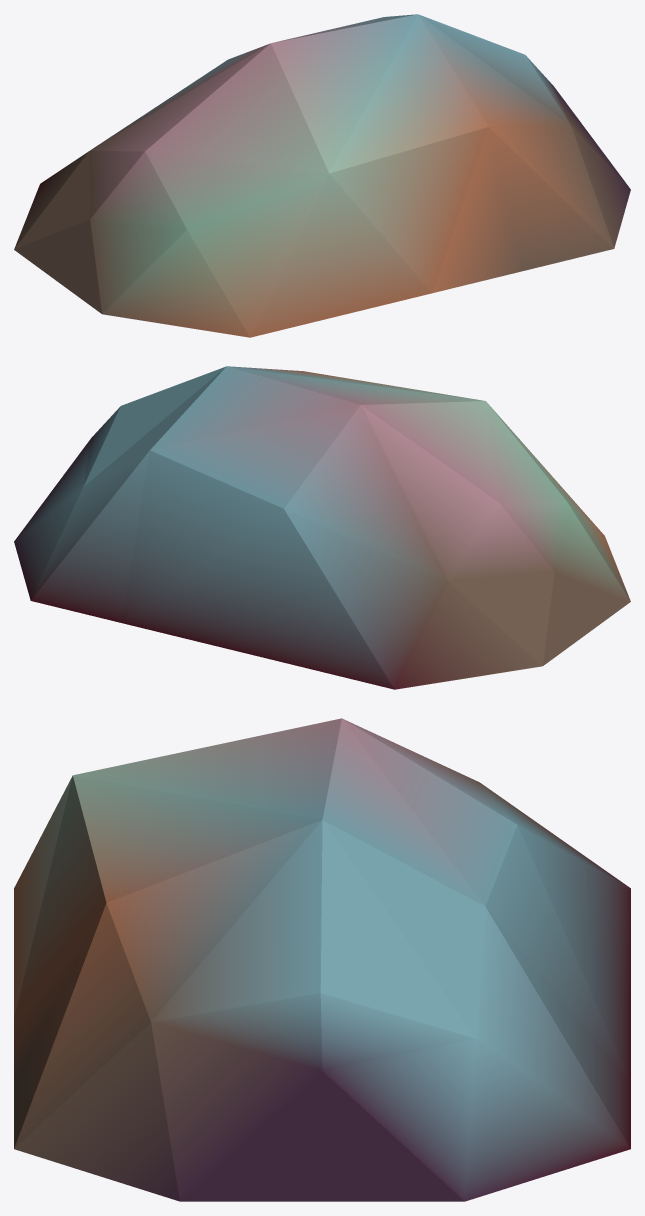
Rendered from Clothes Pile.fbx.
The picture shows the model from 3 angles, top to bottom: view 1: azimuth 30°, elevation 25°; view 2: azimuth 150°, elevation 25°; view 3: azimuth 270°, elevation 25°; orthographic projection. The views are drawn at different scales.
Visible parts, largest first — view 1: ClothesPile; view 2: ClothesPile; view 3: ClothesPile.
Boxes of the visible parts, left/top/right/bottom form: ClothesPile: left=14, top=14, right=630, bottom=337; ClothesPile: left=14, top=366, right=630, bottom=689; ClothesPile: left=14, top=718, right=630, bottom=1201.
Bounding box in the file's own units: 288 × 94.72 × 200.
